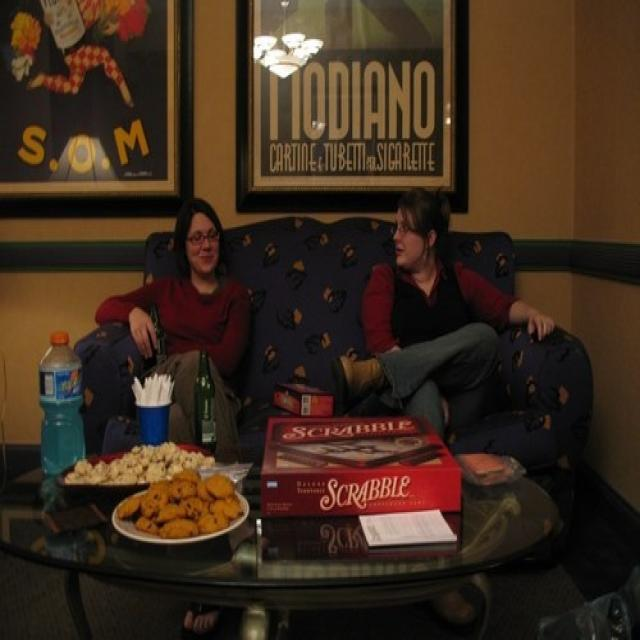bottle: (38, 326, 91, 476), (191, 350, 221, 452), (148, 302, 168, 370)
sofa: (68, 210, 600, 488)
